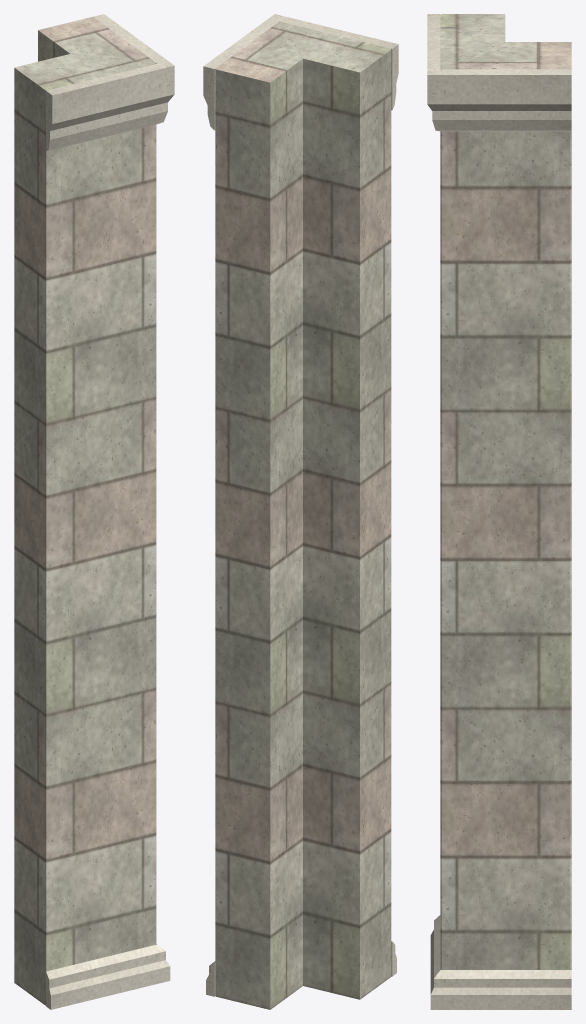
The model's file is anta.glb.
3 renders of one model, left to right at view 1: azimuth 30°, elevation 25°; view 2: azimuth 150°, elevation 25°; view 3: azimuth 270°, elevation 25°, orthographic. The views are drawn at different scales.
Visible parts, largest first — view 1: anta_stone, anta_carve; view 2: anta_stone, anta_carve; view 3: anta_stone, anta_carve.
Part boxes in pixels (<box>): anta_stone: <box>14,17,156,1005</box>; anta_carve: <box>46,14,174,1009</box>; anta_stone: <box>215,22,391,1009</box>; anta_carve: <box>203,14,398,996</box>; anta_stone: <box>440,14,571,969</box>; anta_carve: <box>427,14,571,1009</box>.
Bounding box in the file's own units: 0.88 × 6.3 × 0.88.
Materials: 2 (2 with a texture image).
